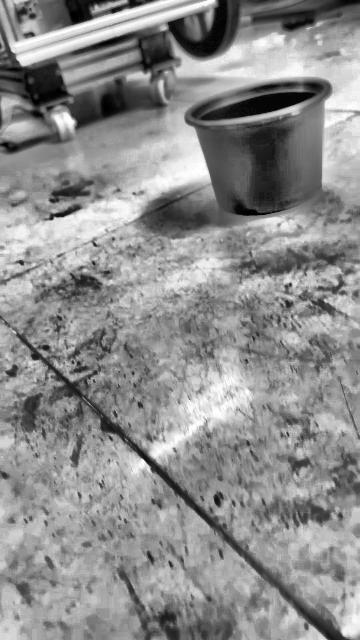pot: (185, 78, 330, 215)
